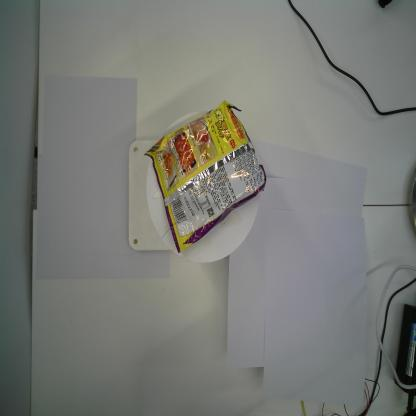Instant Noodles: (143, 97, 269, 258)
